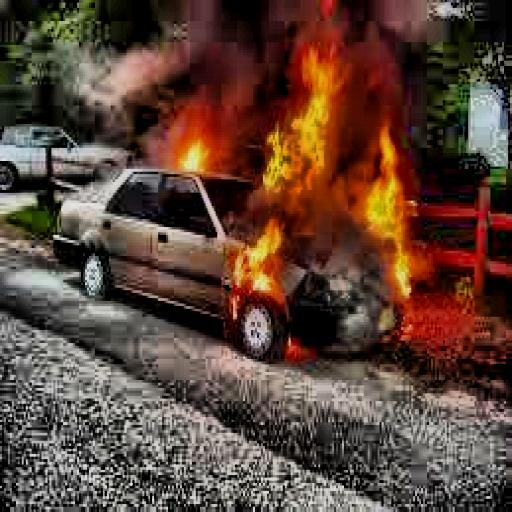fire: (253, 40, 435, 293), (160, 129, 210, 177)
